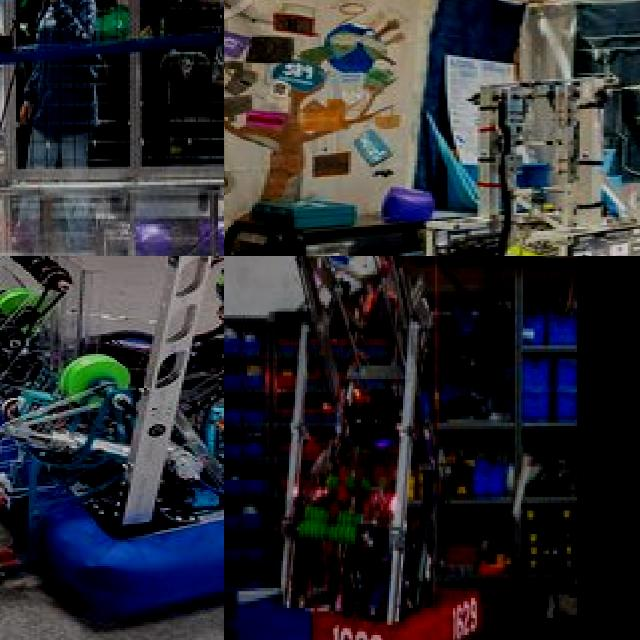FRC-Robots: (241, 256, 507, 640), (313, 7, 640, 256), (0, 256, 224, 616), (0, 0, 224, 256)
